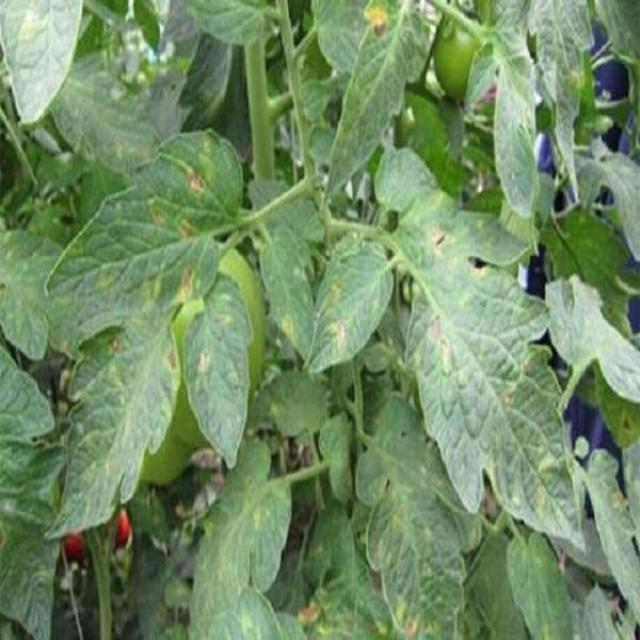Early_blight: (425, 314, 450, 368), (472, 73, 501, 108), (362, 3, 391, 37), (176, 262, 200, 302), (297, 599, 323, 627), (331, 319, 350, 354), (186, 166, 205, 199), (399, 616, 421, 640), (162, 345, 182, 370)
